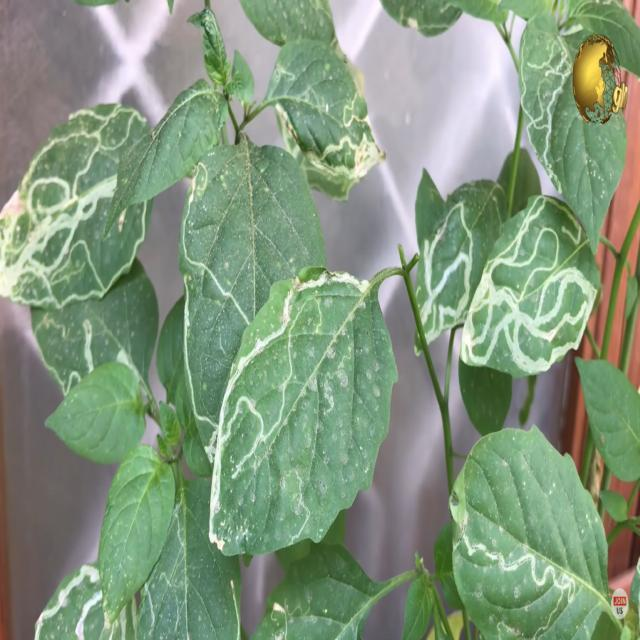Tomato target spot leaf: (209, 266, 399, 558), (179, 132, 325, 460), (447, 425, 608, 640), (0, 98, 156, 311), (457, 187, 601, 380), (269, 33, 391, 205), (30, 254, 160, 400), (135, 477, 242, 640), (414, 176, 510, 354), (243, 535, 373, 640), (516, 10, 572, 194), (31, 556, 136, 640)
